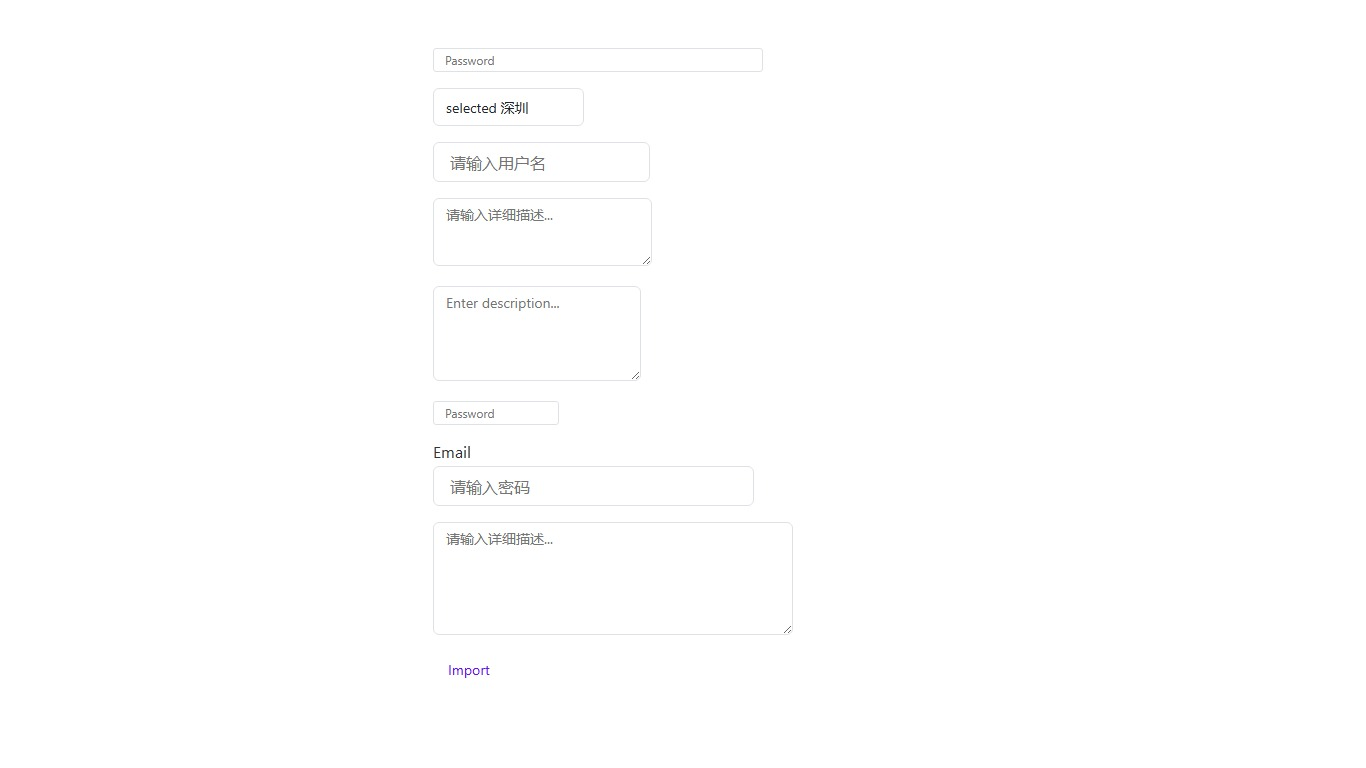button: (433, 655, 505, 685)
input: (433, 466, 754, 506), (433, 142, 650, 182), (433, 48, 763, 72), (433, 401, 559, 425)
select: (433, 88, 584, 126)
textarea: (433, 522, 793, 635), (433, 286, 641, 381), (433, 198, 652, 266)
